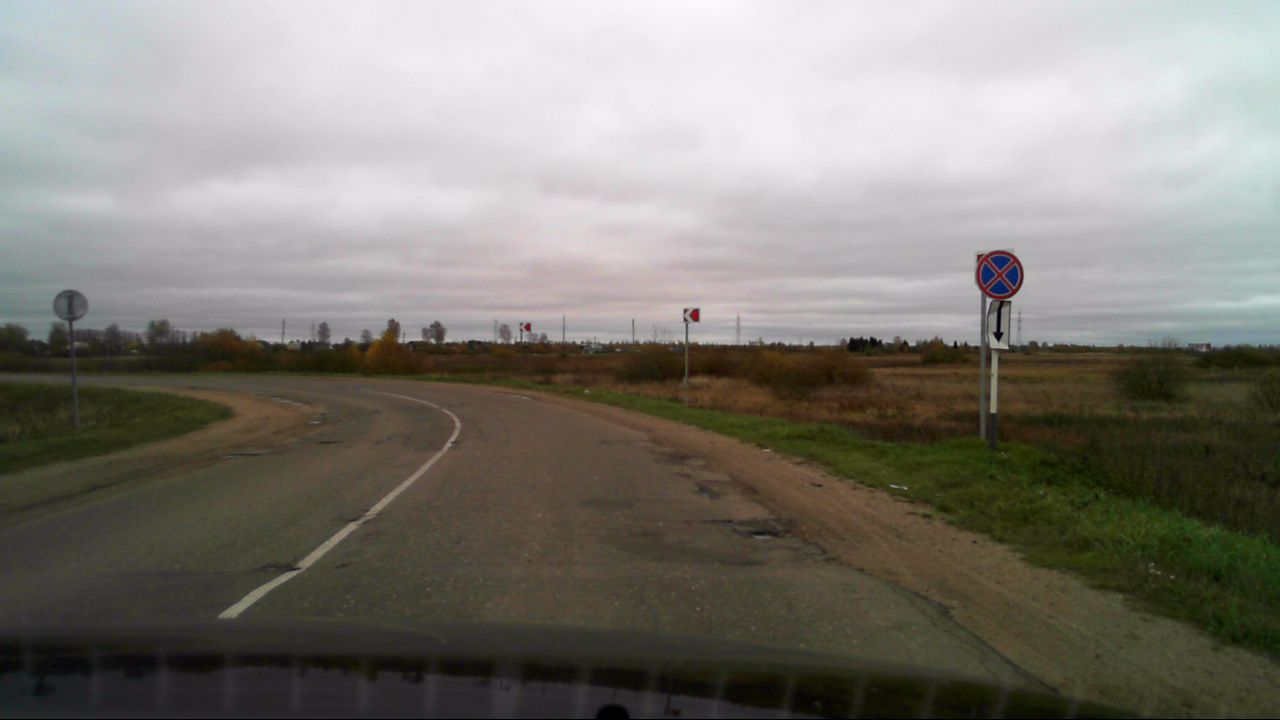No Parking: (975, 251, 1024, 299)
